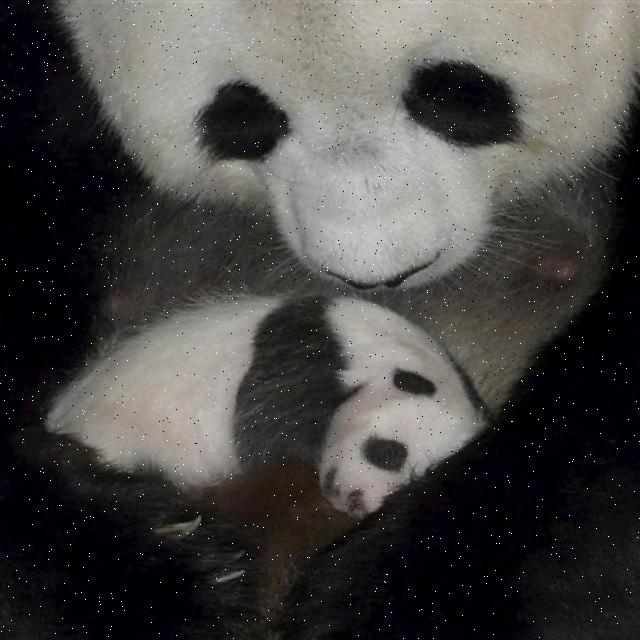panda: (67, 0, 639, 631), (38, 288, 491, 522)
